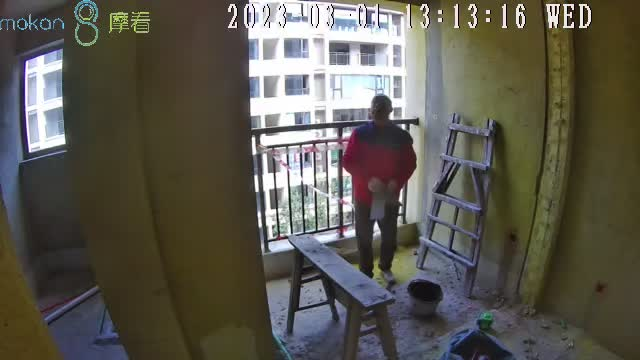people: (343, 93, 416, 285)
window: (249, 1, 412, 252), (17, 53, 70, 157)
